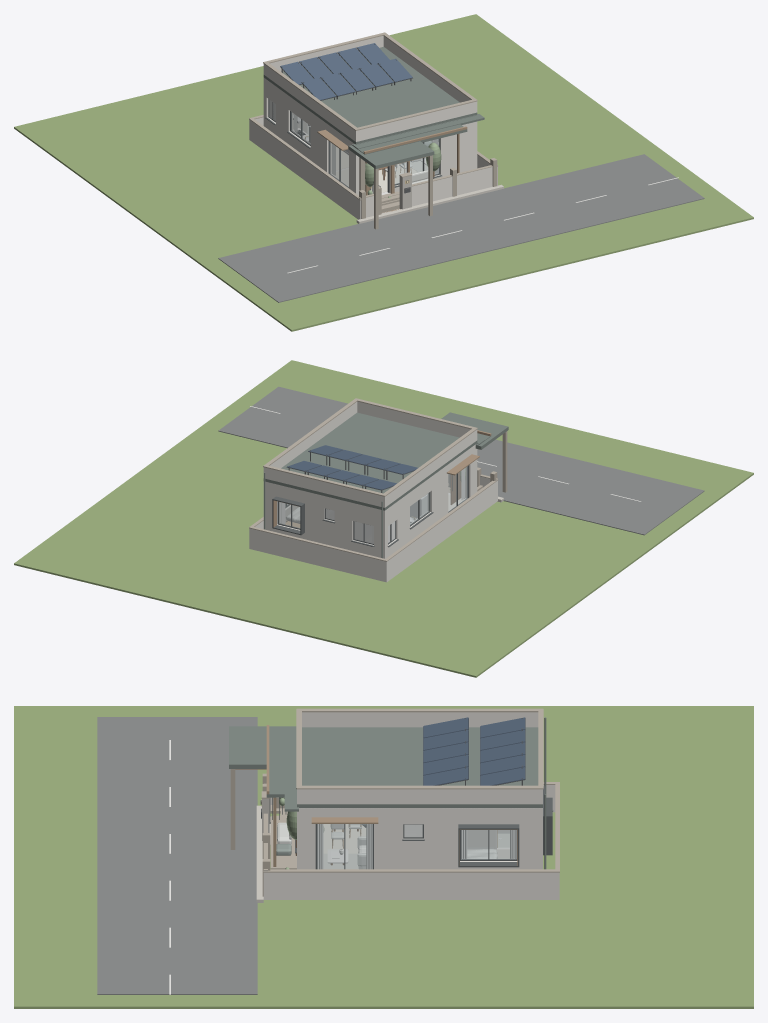
3 renders of one model, top to bottom at view 1: azimuth 30°, elevation 25°; view 2: azimuth 150°, elevation 25°; view 3: azimuth 270°, elevation 25°, orthographic. The views are drawn at different scales.
Parts seen in each view (by area): view 1: world, roof-slab, parapet, coping, F0-W002/1, entry-canopy, F0-W001/1, exterior-porch-01-roof, F0-W003/2, F0-W003/0; view 2: world, roof-slab, parapet, coping, F0-W007/2, entry-canopy, F0-W001/1, F0-W018/2, F0-W012/0, F0-W003/2, F0-W003/0; view 3: world, roof-slab, parapet, coping, F0-W019/1, F0-W021/2, entry-canopy, F0-W021/1, F0-W020/0, exterior-porch-01-roof, F0-W019/2, F0-living/floor (+2 smaller).
Boxes of the visible parts, bbox=[...] form: world: bbox=[14, 14, 753, 331]; roof-slab: bbox=[263, 46, 477, 144]; parapet: bbox=[263, 35, 477, 141]; coping: bbox=[263, 32, 477, 130]; F0-W002/1: bbox=[389, 128, 477, 187]; entry-canopy: bbox=[348, 141, 434, 168]; F0-W001/1: bbox=[317, 126, 359, 195]; exterior-porch-01-roof: bbox=[352, 124, 467, 154]; F0-W003/2: bbox=[277, 87, 317, 130]; F0-W003/0: bbox=[277, 123, 317, 165]; world: bbox=[14, 360, 753, 677]; roof-slab: bbox=[263, 412, 477, 510]; parapet: bbox=[263, 401, 477, 507]; coping: bbox=[263, 398, 477, 496]; F0-W007/2: bbox=[337, 499, 380, 527]; entry-canopy: bbox=[441, 412, 508, 449]; F0-W001/1: bbox=[439, 453, 477, 519]; F0-W018/2: bbox=[263, 481, 312, 506]; F0-W012/0: bbox=[313, 517, 337, 546]; F0-W003/2: bbox=[398, 471, 438, 514]; F0-W003/0: bbox=[398, 507, 438, 549]; world: bbox=[14, 706, 753, 1008]; roof-slab: bbox=[297, 727, 542, 807]; parapet: bbox=[297, 712, 542, 804]; coping: bbox=[296, 708, 543, 789]; F0-W019/1: bbox=[303, 820, 398, 869]; F0-W021/2: bbox=[440, 808, 536, 825]; entry-canopy: bbox=[229, 726, 296, 768]; F0-W021/1: bbox=[440, 825, 536, 861]; F0-W020/0: bbox=[399, 838, 440, 869]; exterior-porch-01-roof: bbox=[266, 727, 284, 797]; F0-W019/2: bbox=[303, 808, 398, 820]; F0-living/floor: bbox=[323, 824, 366, 853].
Bounding box in the file's own units: 25.62 × 4.38 × 26.67.
